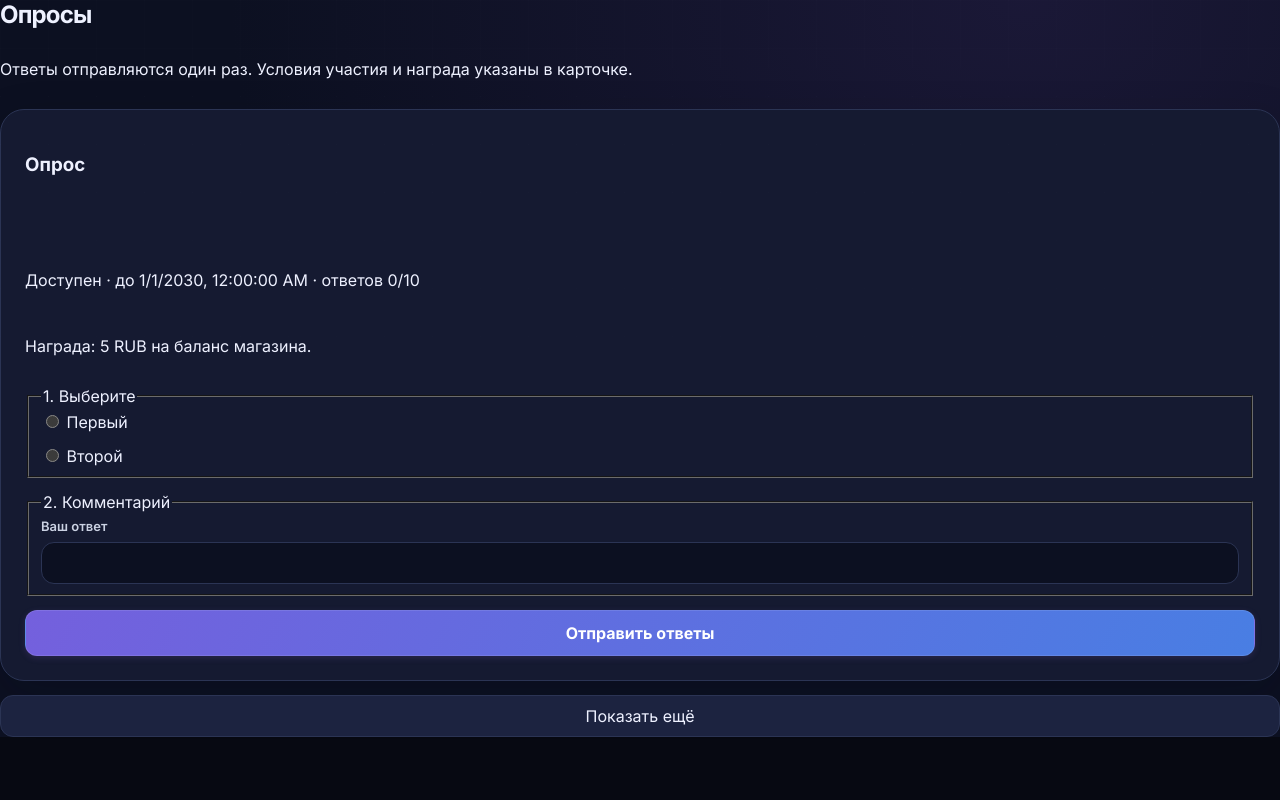
Test: loads the next page without replacing existing surveys
The width and height of the screenshot is (1280, 800).
Click the button "Показать ещё".
click(640, 716)  # box [0, 695, 1279, 737]
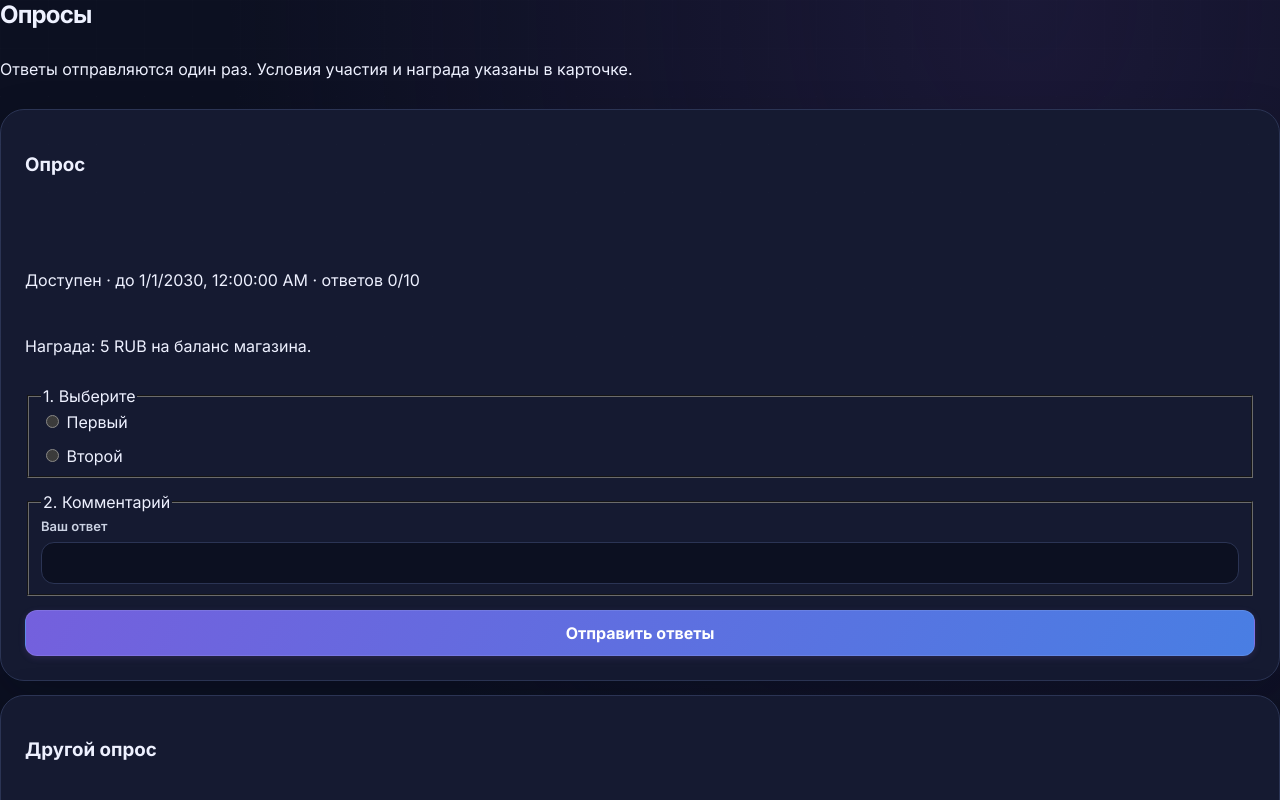
Expected: the heading "Опрос" is shown, [25, 153, 85, 176]
Result: the heading "Другой опрос" is shown at [25, 738, 157, 761]
